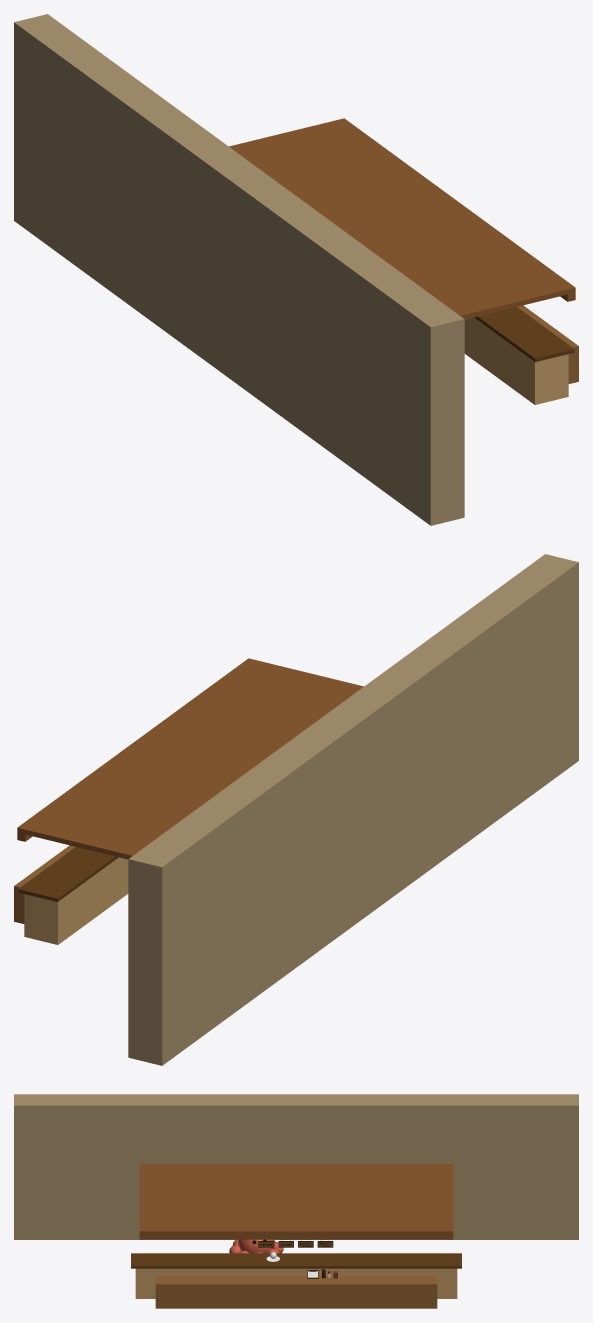
File: all.fbx
The picture shows the model from 3 angles, top to bottom: view 1: azimuth 30°, elevation 25°; view 2: azimuth 150°, elevation 25°; view 3: azimuth 270°, elevation 25°; orthographic projection. The views are drawn at different scales.
Parts seen in each view (by area): view 1: Cube.003, 上方木板, Cube, Cube.002, Cube.001; view 2: Cube.003, 上方木板, Cube, Cube.002, Cube.001; view 3: Cube.003, 上方木板, Cube.001, Cube.002, Cube, Sphere.001.
Part boxes in pixels (x1,y1,x2,y2): Cube.003: [14, 14, 464, 525]; 上方木板: [229, 118, 575, 319]; Cube: [464, 317, 568, 404]; Cube.002: [474, 307, 574, 361]; Cube.001: [517, 305, 578, 383]; Cube.003: [128, 554, 578, 1065]; 上方木板: [17, 658, 363, 859]; Cube: [24, 857, 128, 944]; Cube.002: [18, 847, 118, 901]; Cube.001: [14, 845, 75, 923]; Cube.003: [14, 1094, 578, 1239]; 上方木板: [139, 1164, 453, 1239]; Cube.001: [155, 1276, 437, 1308]; Cube.002: [131, 1253, 461, 1268]; Cube: [135, 1268, 457, 1298]; Sphere.001: [238, 1239, 274, 1253].
Size of the model in its own units: 1500 by 1126 by 4282.
